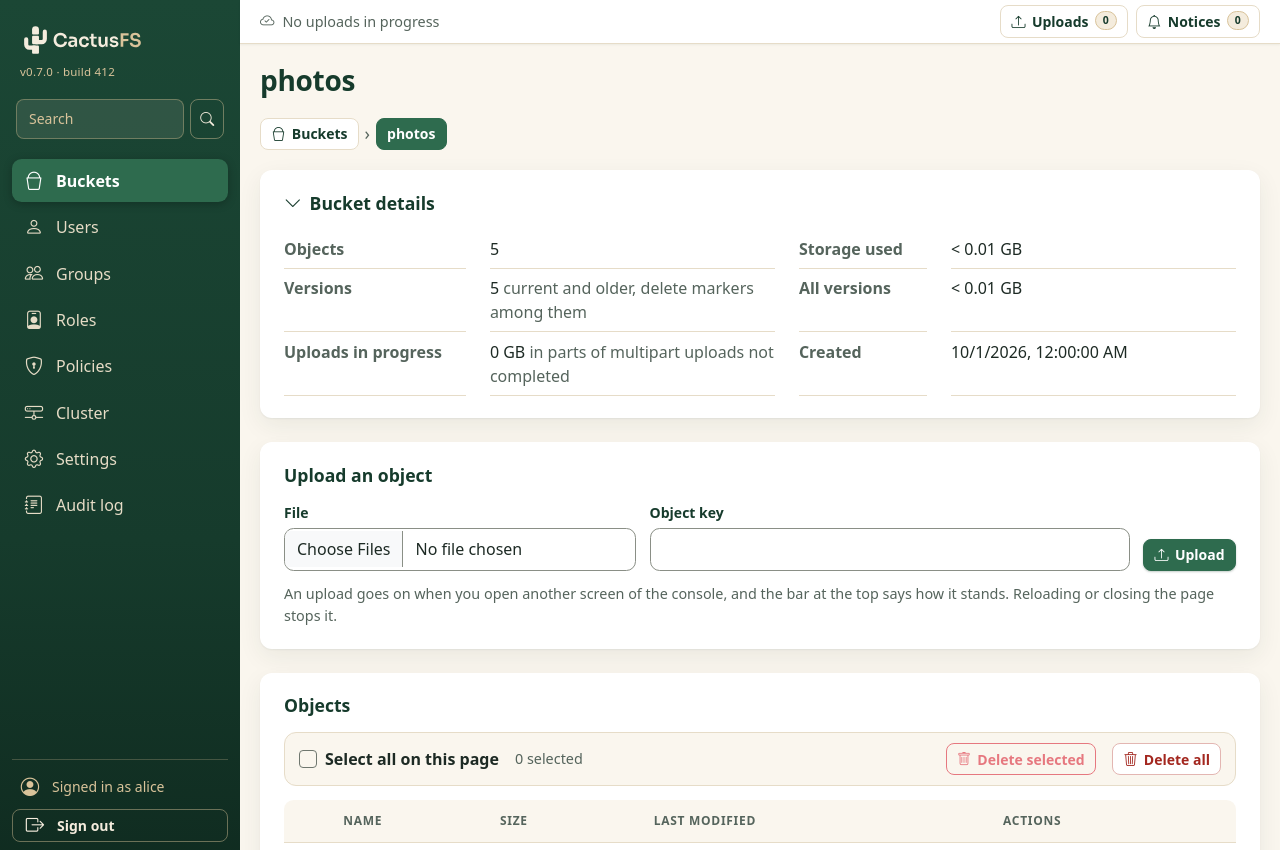
Scenario: "Delete all" › deletes nothing at a wrong password, and says so
Expected: the heading "photos" is shown, [260,61,355,99]
Click the button "Delete all" at (1167, 759), box [1112,743,1221,775]
(page scrolled)
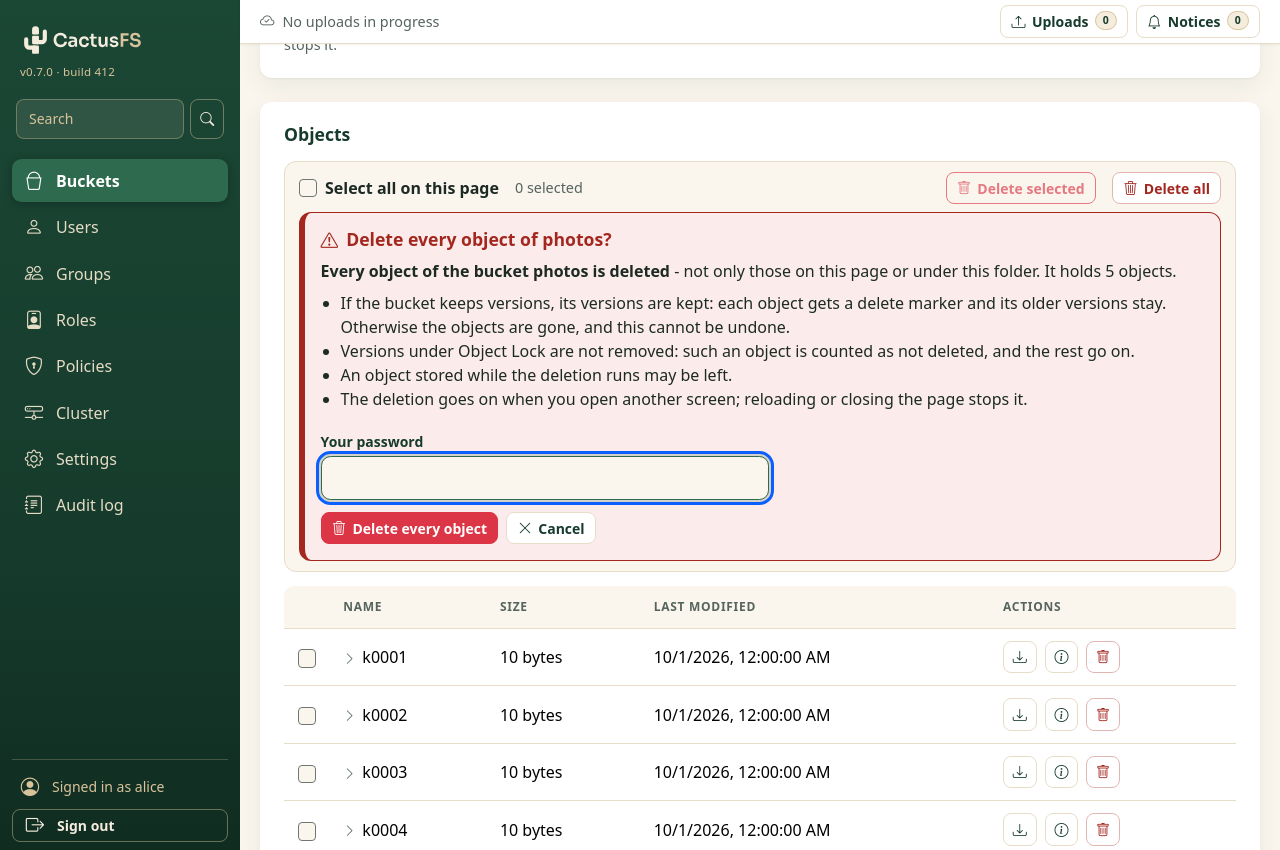
Type "not the password" into the password field labelled "Your password" at (545, 478), box [321,456,769,500]
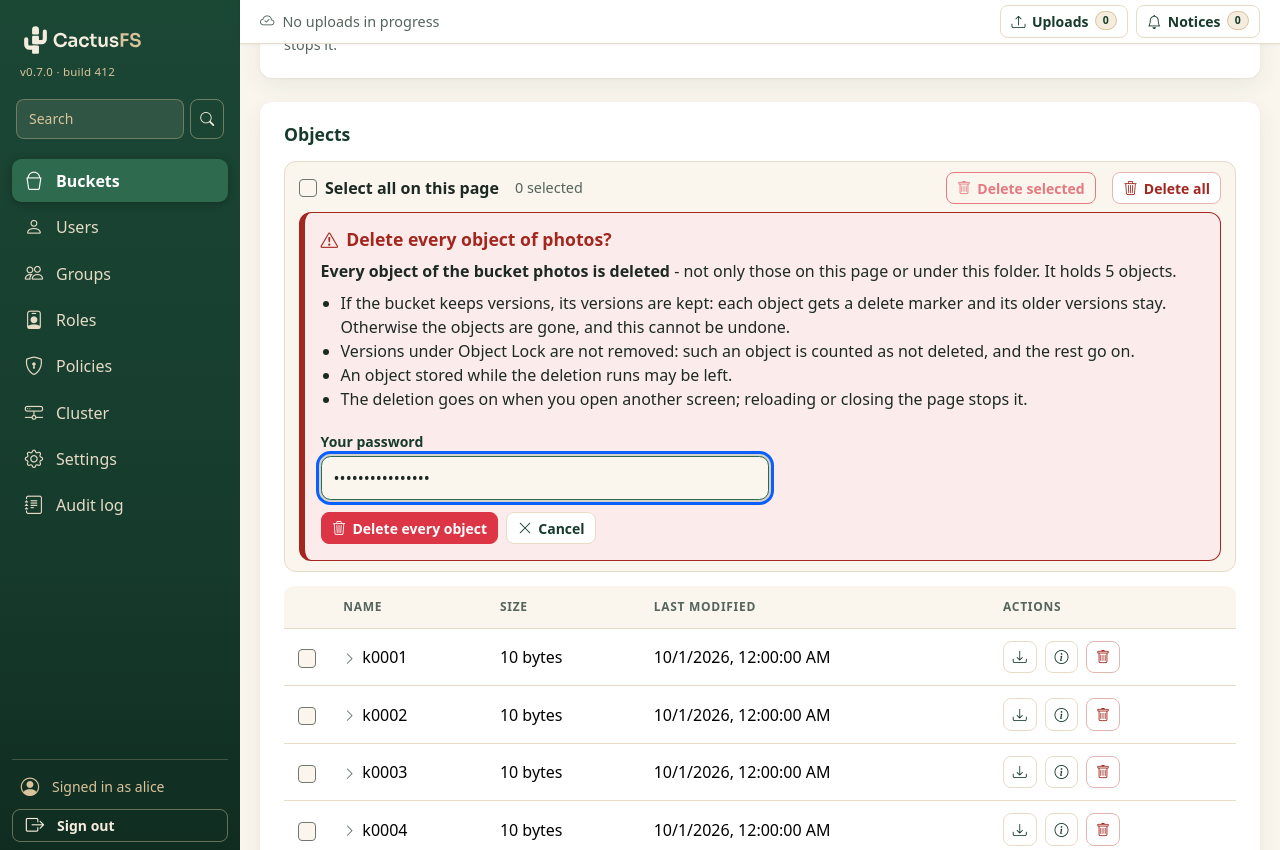
Submit the form "Delete every object", box [321,418,769,544]
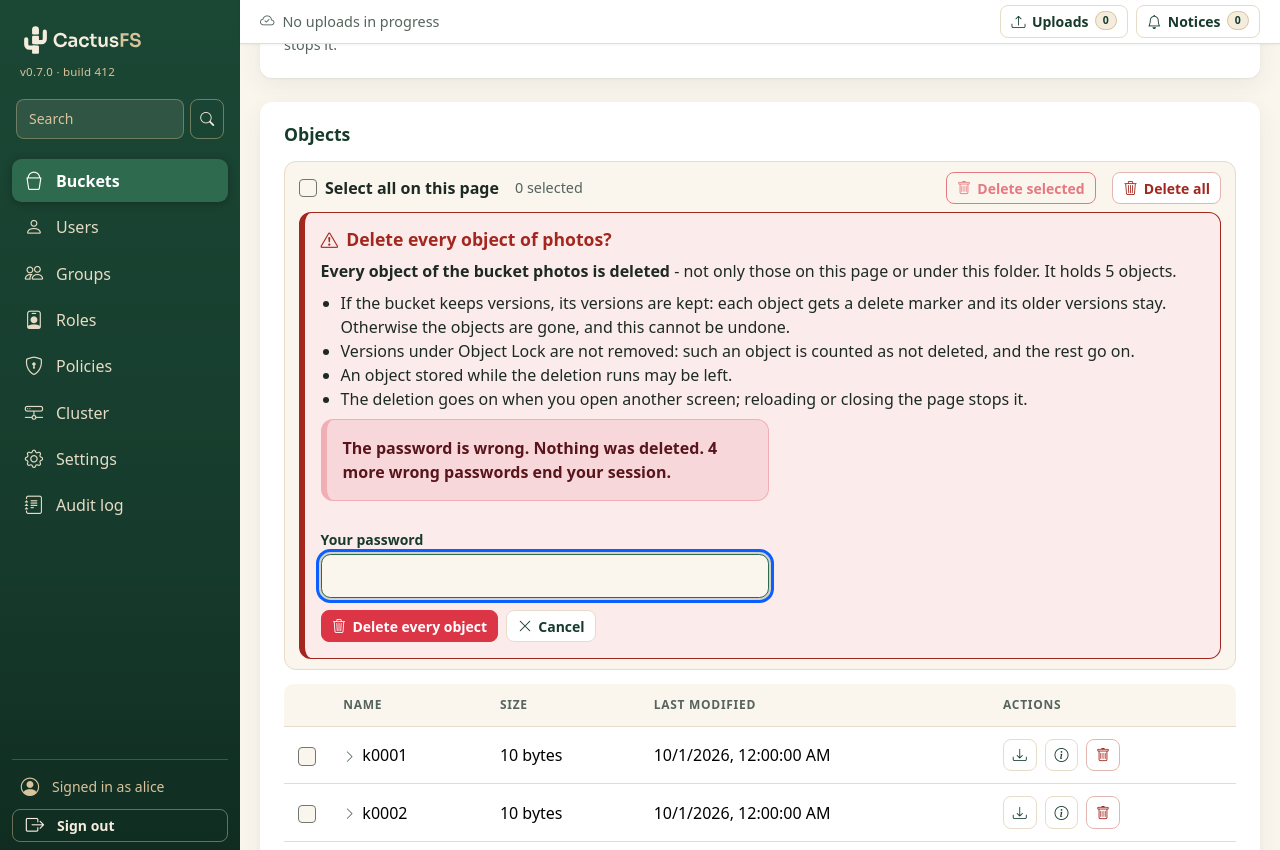
Expected: the dialog "Delete every object of " is shown, [299,212,1221,660]
Expected: the message shows "The password is wrong. Nothing was deleted. 4 more wrong passwords end your session.", [343,436,717,482]
Expected: the password field labelled "Your password" is empty, [321,554,769,598]
